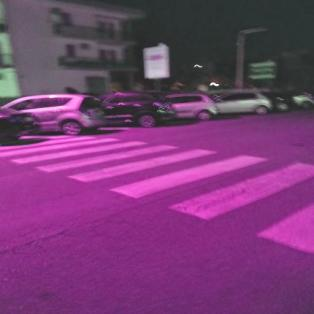Paso de Cebra: (65, 147, 274, 202)
